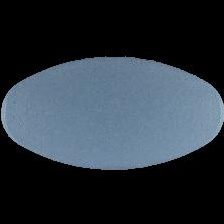42291-531: (0, 0, 224, 224)
